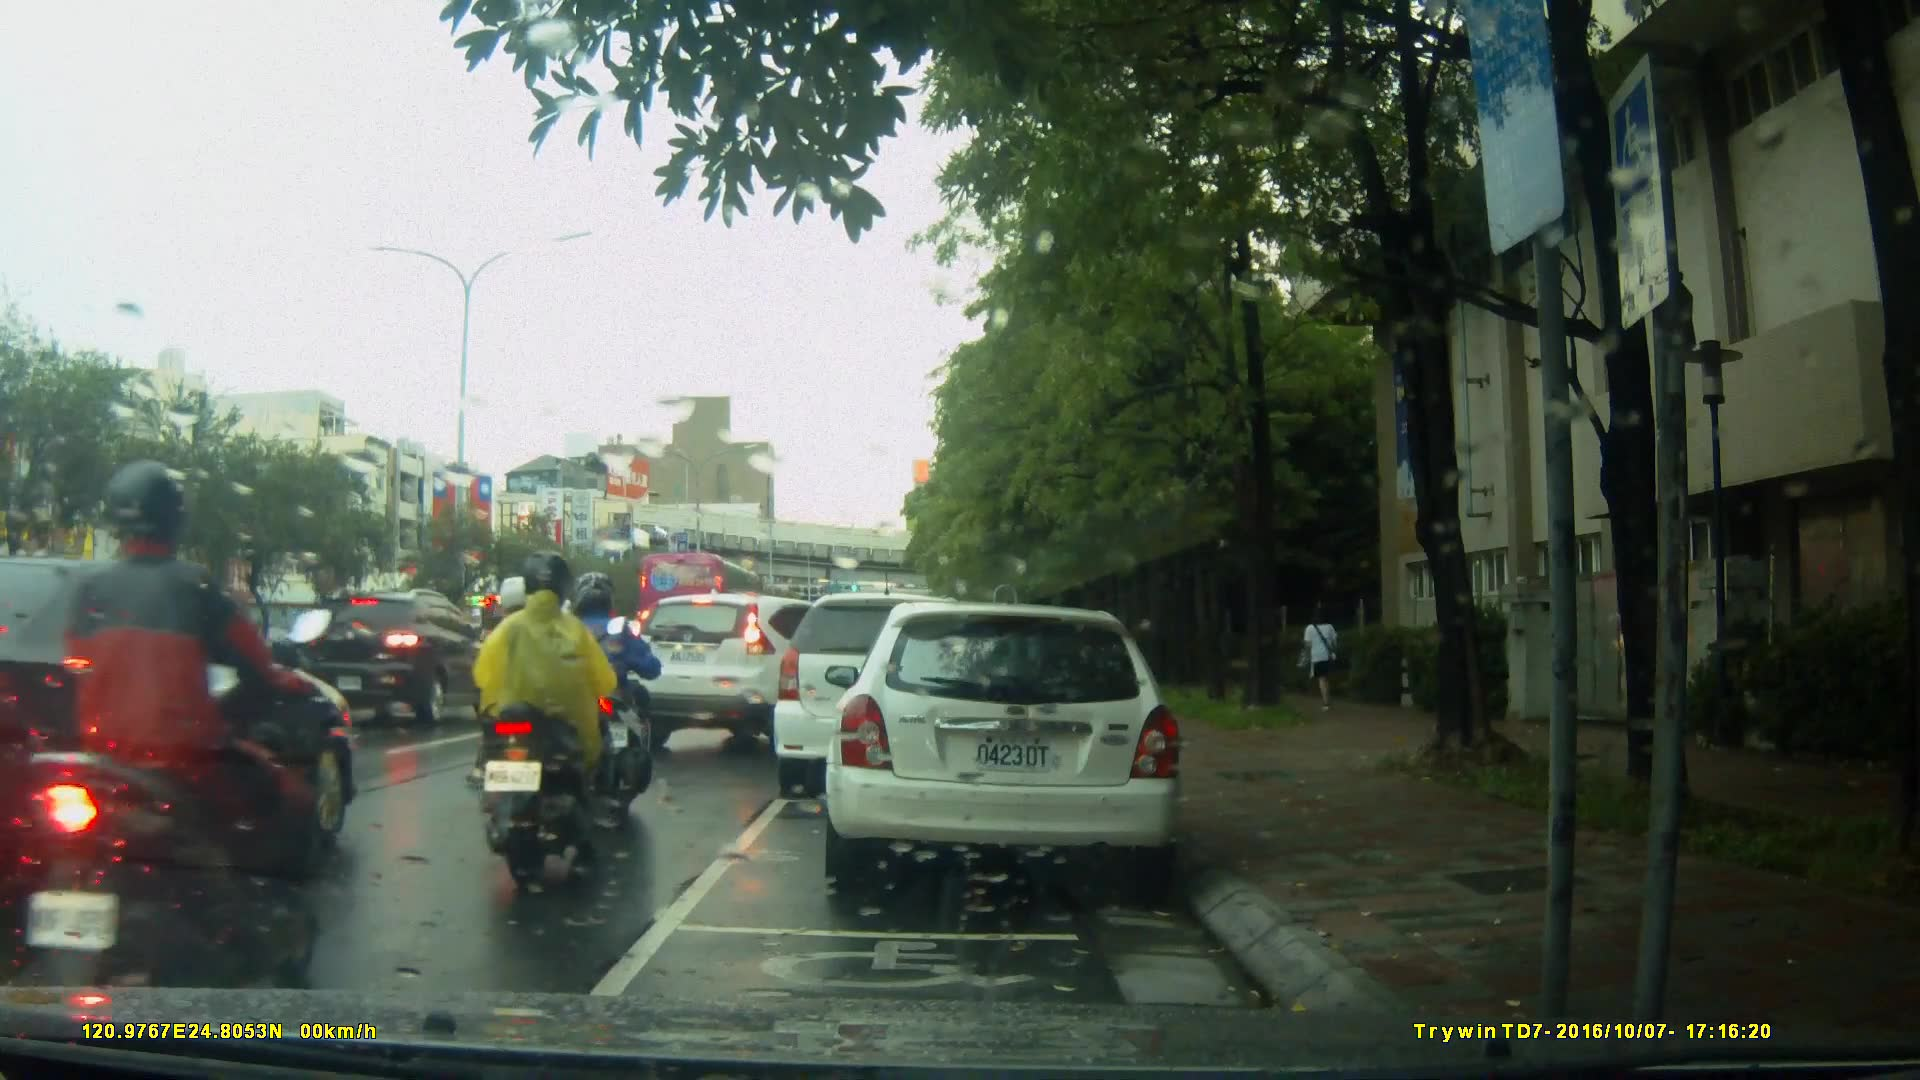pedestrian: (1293, 601, 1350, 723)
rider: (29, 472, 341, 1011), (471, 557, 618, 884), (549, 567, 664, 830), (461, 574, 548, 809)
vehicle: (1, 552, 351, 914), (835, 594, 1194, 898), (776, 590, 1026, 784), (619, 588, 878, 760), (293, 585, 502, 728), (637, 550, 767, 639)
